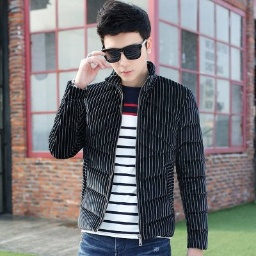face: (98, 1, 152, 83)
